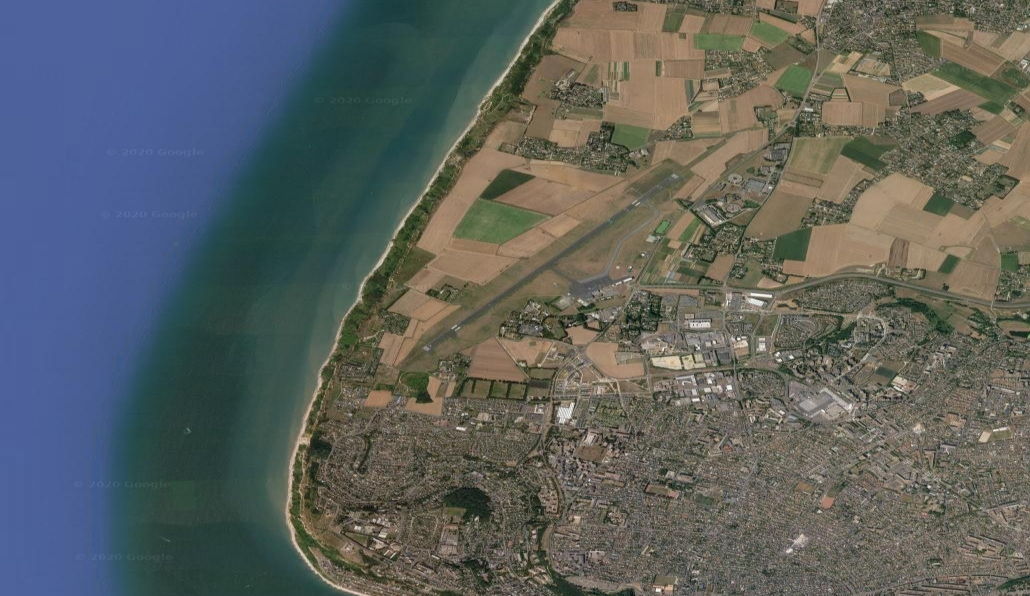airport: (421, 171, 683, 354)
